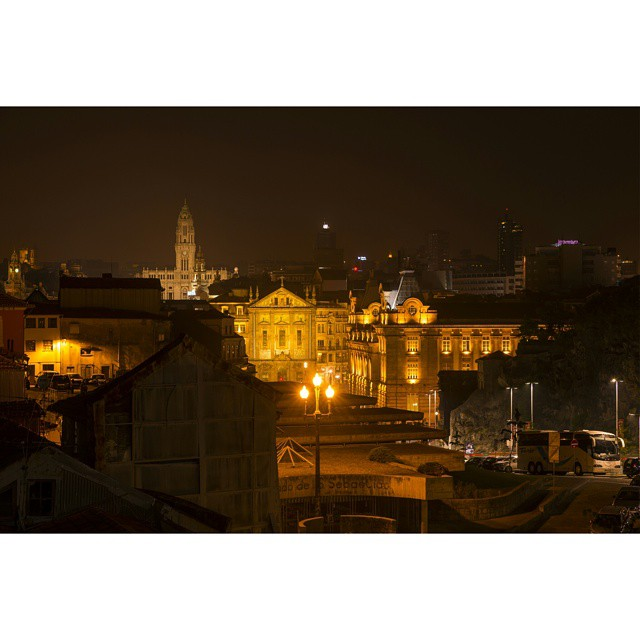camara: (134, 198, 238, 301)
